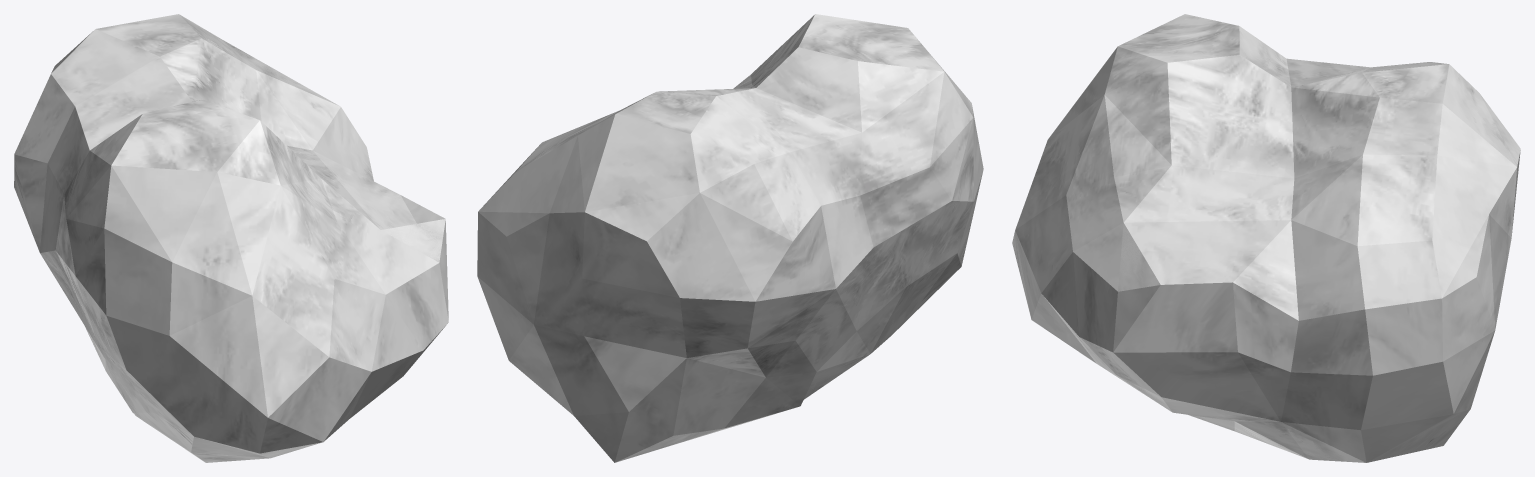
File: Cotton_LP.fbx
3 renders of one model, left to right at view 1: azimuth 30°, elevation 25°; view 2: azimuth 150°, elevation 25°; view 3: azimuth 270°, elevation 25°, orthographic. The views are drawn at different scales.
Visible parts, largest first — view 1: Cotton_LP; view 2: Cotton_LP; view 3: Cotton_LP.
Part boxes in pixels (<box>): Cotton_LP: <box>14,14,448,462</box>; Cotton_LP: <box>477,14,983,462</box>; Cotton_LP: <box>1012,14,1520,462</box>.
Bounding box in the file's own units: 7.53 × 7.35 × 9.24.
